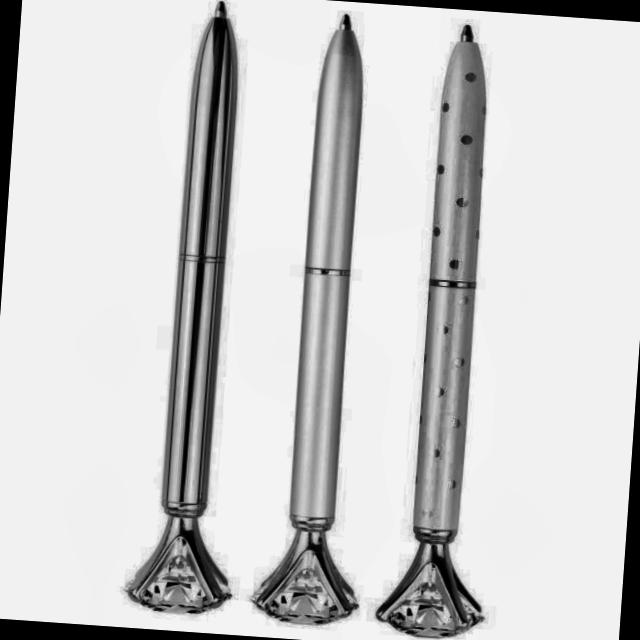Pen: (128, 11, 241, 616), (261, 13, 365, 625)
